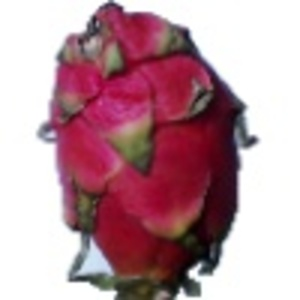pitaia: (37, 1, 261, 300)
